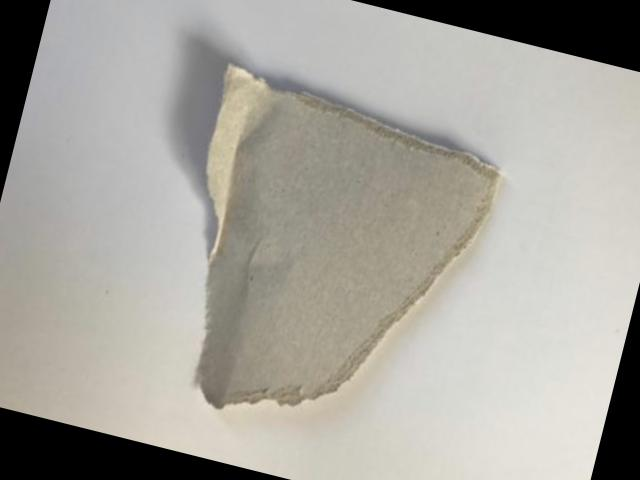cardboard paper: (198, 69, 501, 411)
